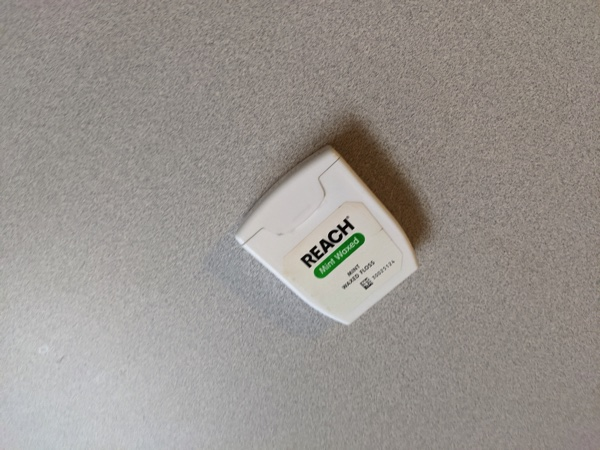plastic: (198, 136, 446, 345)
